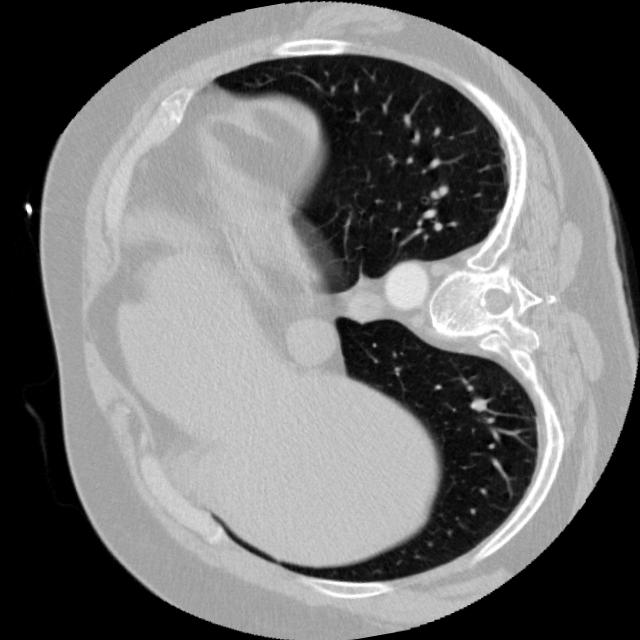nodule: (455, 382, 499, 426)
